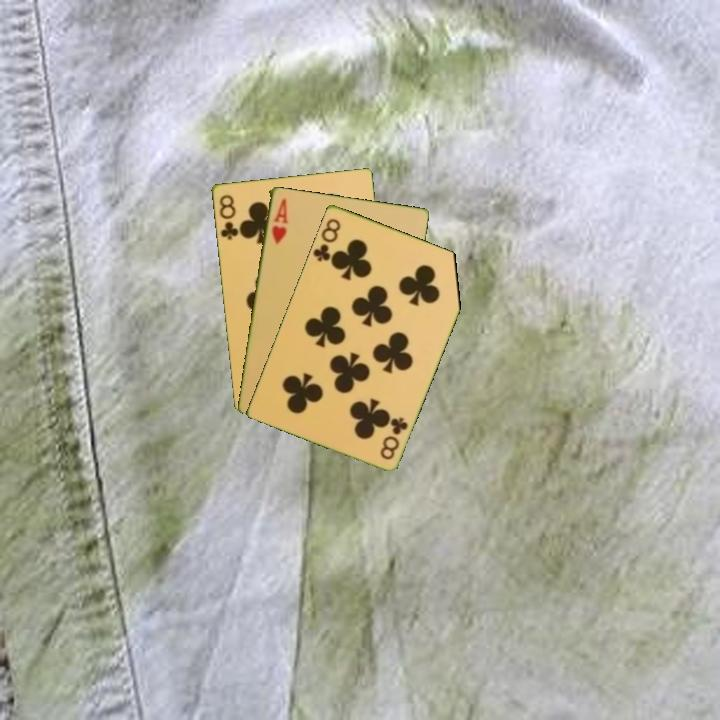8c: (376, 413, 411, 463), (310, 214, 343, 265), (216, 191, 241, 242)
Ah: (268, 194, 290, 247)
